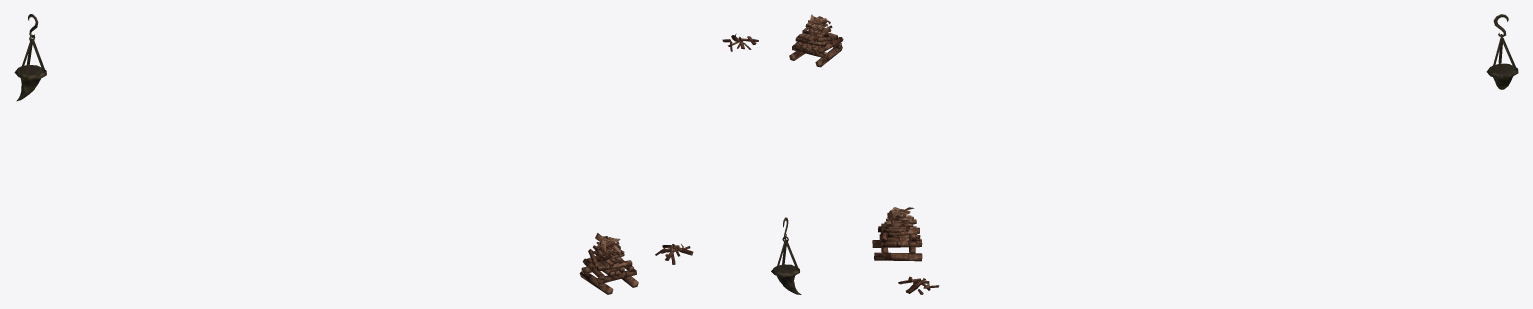
File: yanshi8_wujian1_2.FBX
The picture shows the model from 3 angles, left to right: view 1: azimuth 30°, elevation 25°; view 2: azimuth 150°, elevation 25°; view 3: azimuth 270°, elevation 25°; orthographic projection. The views are drawn at different scales.
Parts seen in each view (by area): view 1: yanshi8_wujian1_2; view 2: yanshi8_wujian1_2; view 3: yanshi8_wujian1_2.
Part boxes in pixels (x1,y1,x2,y2): yanshi8_wujian1_2: (14, 14, 693, 294); yanshi8_wujian1_2: (722, 14, 843, 294); yanshi8_wujian1_2: (872, 14, 1518, 294).
Bounding box in the file's own units: 2453 × 677 × 3649.
